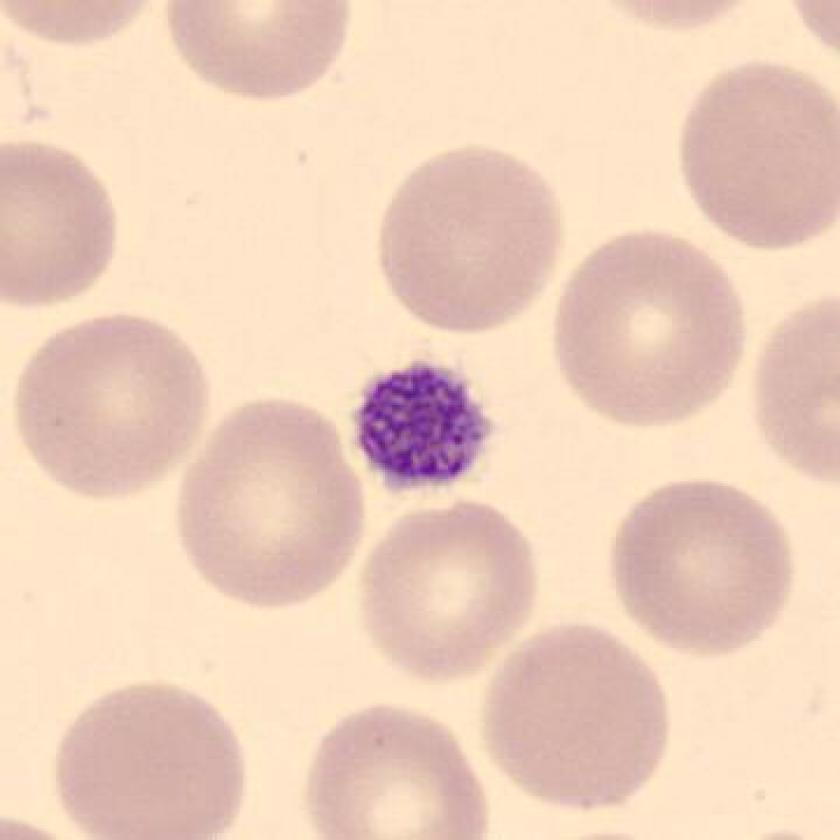platelets: (346, 351, 503, 503)
